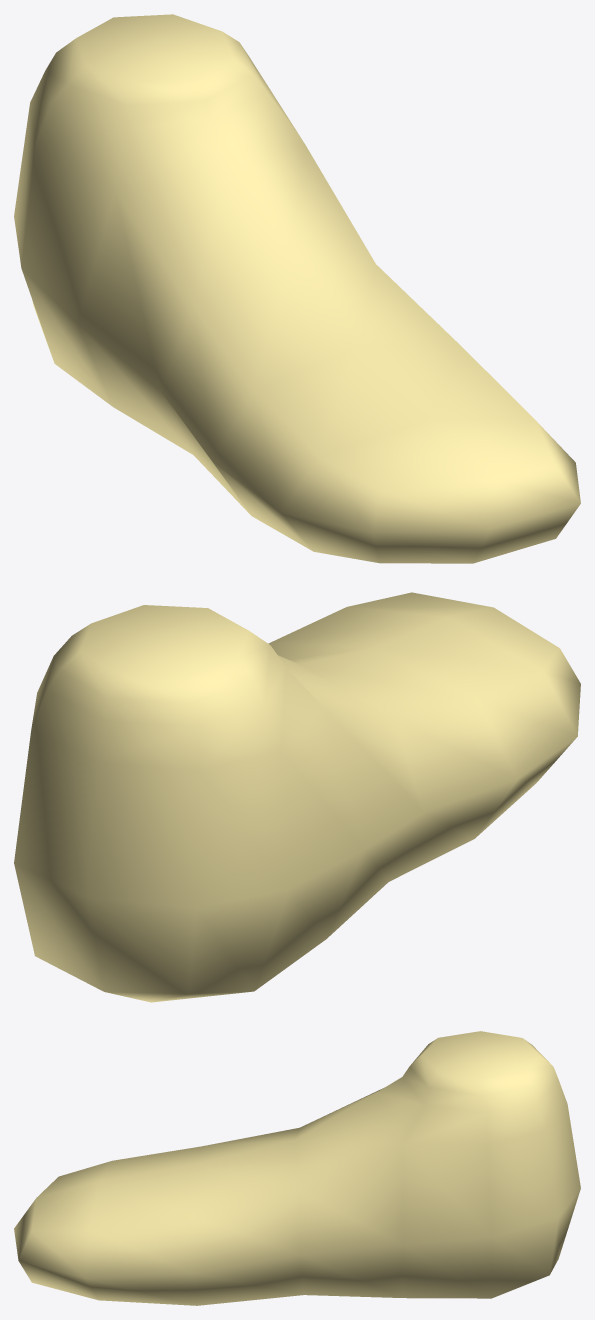
File: foot.fbx
3 renders of one model, top to bottom at view 1: azimuth 30°, elevation 25°; view 2: azimuth 150°, elevation 25°; view 3: azimuth 270°, elevation 25°, orthographic. The views are drawn at different scales.
Parts seen in each view (by area): view 1: foot; view 2: foot; view 3: foot.
Part boxes in pixels (box(x1,y1,x2,y2)): foot: box(14, 14, 580, 563); foot: box(14, 592, 580, 1002); foot: box(14, 1031, 580, 1305).
Size of the model in its own units: 0.5648 by 0.6328 by 1.39.
